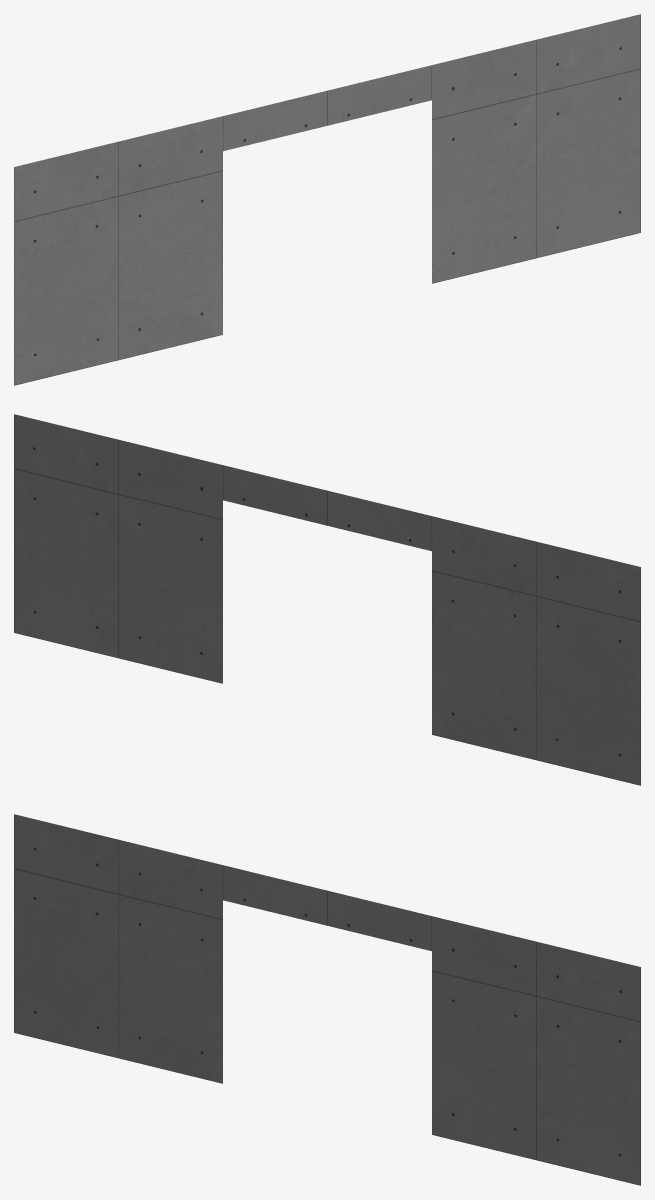
The model's file is SM06_Building_WallPanel_Interior_03_BottomDoor_02.fbx.
3 views of the same model, one above another, from view 1: azimuth 30°, elevation 25°; view 2: azimuth 150°, elevation 25°; view 3: azimuth 330°, elevation 25° (orthographic).
Parts seen in each view (by area): view 1: SM06_Building_WallPanel_Interior_03_BottomDoor_02; view 2: SM06_Building_WallPanel_Interior_03_BottomDoor_02; view 3: SM06_Building_WallPanel_Interior_03_BottomDoor_02.
Part boxes in pixels (bbox=[...]): SM06_Building_WallPanel_Interior_03_BottomDoor_02: bbox=[14, 14, 640, 385]; SM06_Building_WallPanel_Interior_03_BottomDoor_02: bbox=[14, 414, 640, 785]; SM06_Building_WallPanel_Interior_03_BottomDoor_02: bbox=[14, 814, 640, 1185].
Size of the model in its own units: 15 by 5 by 5.7e-06.
